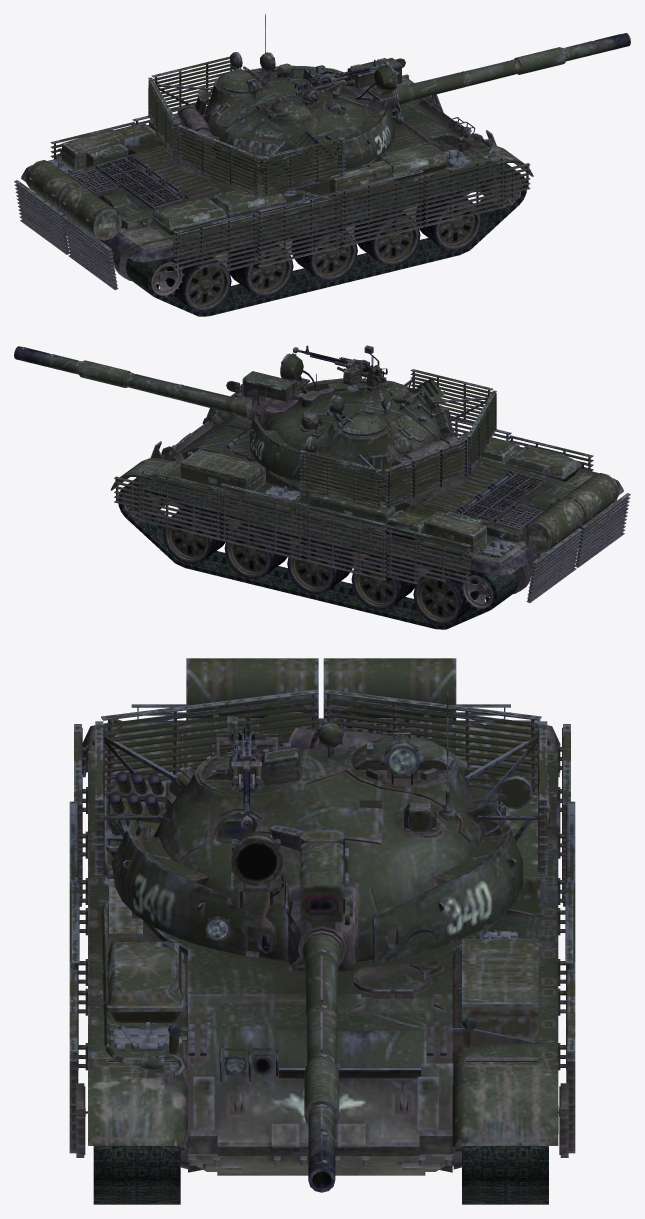
3 renders of one model, top to bottom at view 1: azimuth 30°, elevation 25°; view 2: azimuth 150°, elevation 25°; view 3: azimuth 270°, elevation 25°, orthographic. The views are drawn at different scales.
Visible parts, largest first — view 1: t62md_t62md_0, track_track_0; view 2: t62md_t62md_0, track_track_0; view 3: t62md_t62md_0, track_track_0.
Part boxes in pixels (left/top/right/bottom): t62md_t62md_0: left=14, top=14, right=630, bottom=312; track_track_0: left=36, top=163, right=526, bottom=316; t62md_t62md_0: left=14, top=345, right=630, bottom=625; track_track_0: left=118, top=477, right=608, bottom=629; t62md_t62md_0: left=69, top=658, right=575, bottom=1192; track_track_0: left=93, top=1146, right=548, bottom=1204.
Bounding box in the file's own units: 8.32 × 2.82 × 3.2.
Materials: 2 (2 with a texture image).
